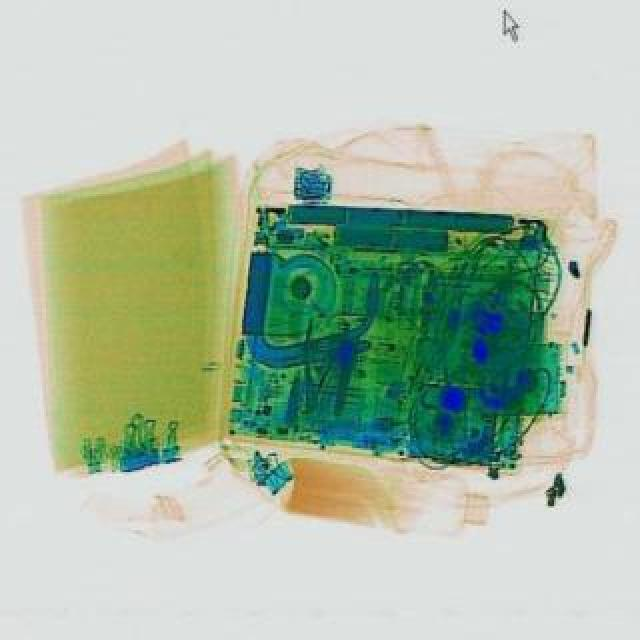wrench: (290, 312, 350, 412)
